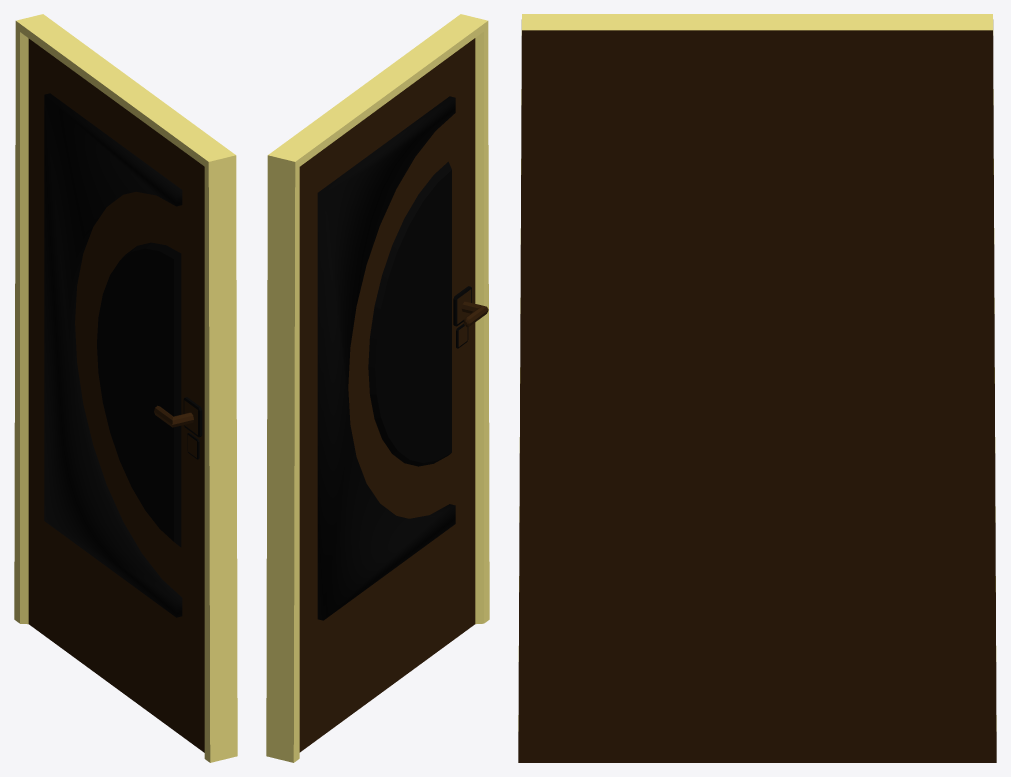
File: HomeDoor.fbx
3 views of the same model, side by side, from view 1: azimuth 30°, elevation 25°; view 2: azimuth 150°, elevation 25°; view 3: azimuth 270°, elevation 25° (orthographic). The views are drawn at different scales.
Visible parts, largest first — view 1: HomeDoor; view 2: HomeDoor; view 3: HomeDoor.
Boxes of the visible parts, x1=… form: HomeDoor: x1=14, y1=14, x2=237, y2=762; HomeDoor: x1=266, y1=14, x2=489, y2=762; HomeDoor: x1=518, y1=14, x2=996, y2=762.
Bounding box in the file's own units: 43 × 536 × 317.
